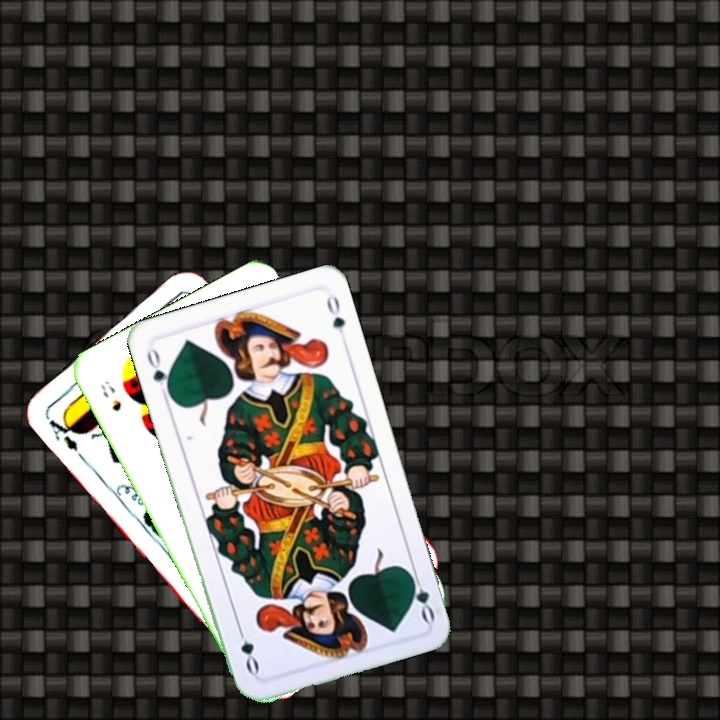EA: (43, 412, 82, 455)
GO: (404, 566, 438, 625), (142, 345, 174, 401)
S8: (97, 376, 124, 414)
